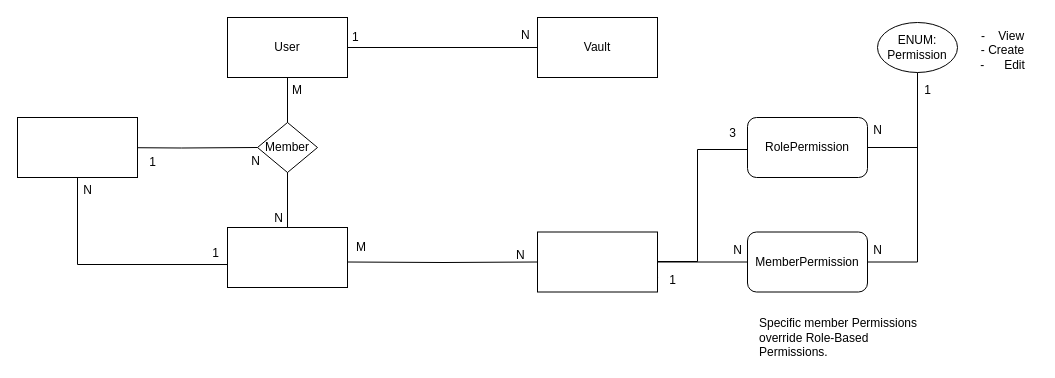
This 1055x378 diagram has some shape labels left out. Here are the shapes that lost their labels. From the top down, the centre of each, then its label:
point (77, 147): Role
point (287, 257): Organization
point (597, 261): Organization Vault
